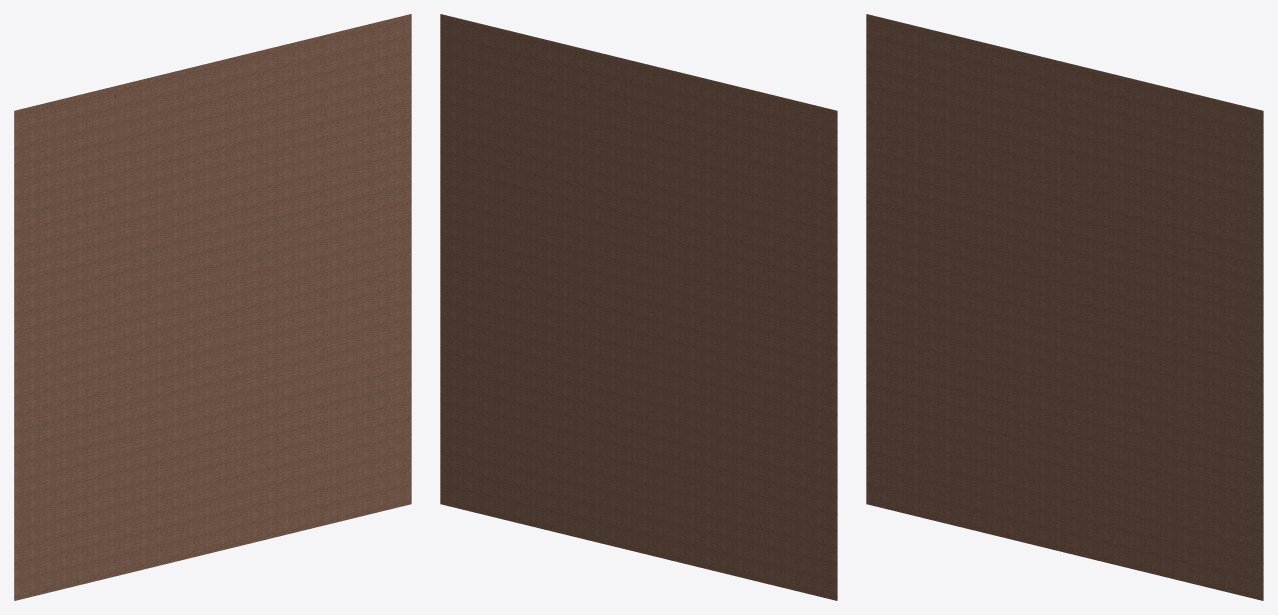
Rendered from Tutorial_Model_Structure_BS4Wall_1.fbx.
3 renders of one model, left to right at view 1: azimuth 30°, elevation 25°; view 2: azimuth 150°, elevation 25°; view 3: azimuth 330°, elevation 25°, orthographic.
Parts seen in each view (by area): view 1: Wall_11; view 2: Wall_11; view 3: Wall_11.
Boxes of the visible parts, x1,y1,x2,y2 form: Wall_11: (14, 14, 411, 600); Wall_11: (440, 14, 837, 600); Wall_11: (866, 14, 1263, 600).
Bounding box in the file's own units: 1969 × 2323 × 4.55.
Materials: 1 (1 with a texture image).
